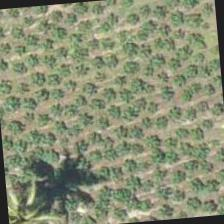Kelapa_Sawit: (5, 171, 62, 223)
